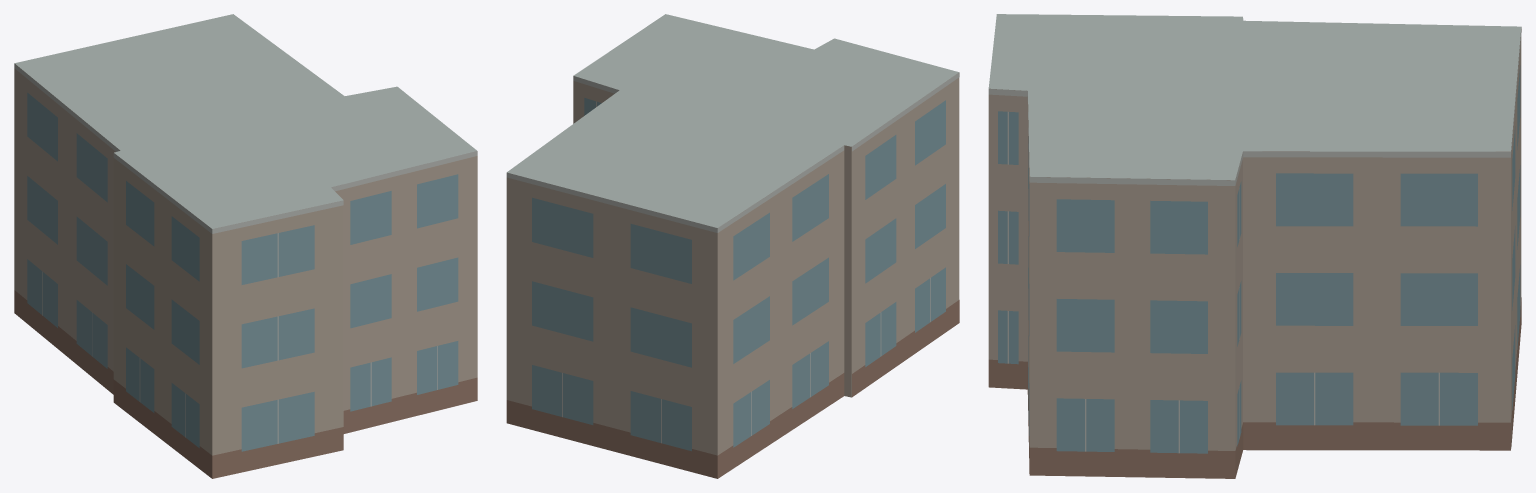
File: survey-upis-32613075.glb
3 views of the same model, side by side, from view 1: azimuth 30°, elevation 25°; view 2: azimuth 150°, elevation 25°; view 3: azimuth 270°, elevation 25° (orthographic). The views are drawn at different scales.
Parts seen in each view (by area): view 1: survey-upis-32613075.tmp; view 2: survey-upis-32613075.tmp; view 3: survey-upis-32613075.tmp.
Part boxes in pixels (x1,y1,x2,y2): survey-upis-32613075.tmp: (14,14,477,478); survey-upis-32613075.tmp: (506,14,959,478); survey-upis-32613075.tmp: (988,14,1521,478).
Bounding box in the file's own units: 14.69 × 12.3 × 19.89.
